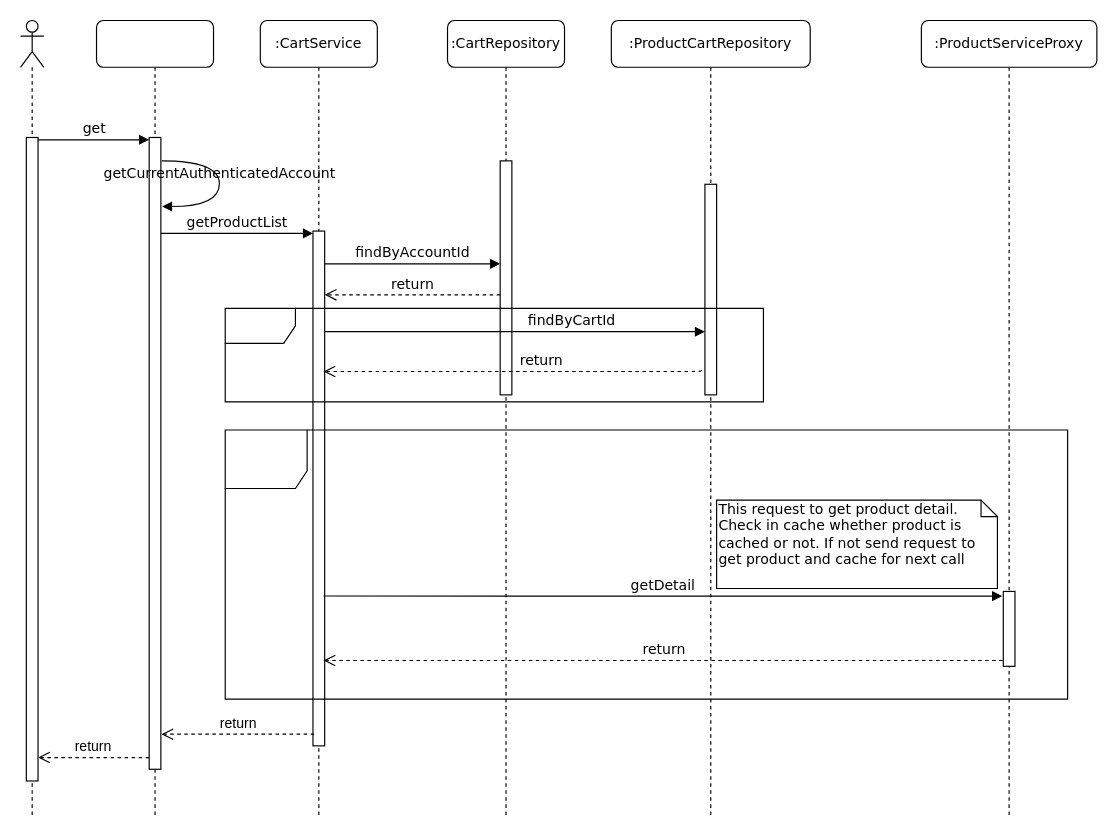
Some shapes in this 1117 by 837 pixel diagram are drawn without their labels. Here are the shapes that lost their labels. From the top down, the box of each, then its label:
(224, 307, 763, 402): if cart existed
(95, 19, 214, 816): :CartController
(224, 429, 1068, 699): For each product in cart
